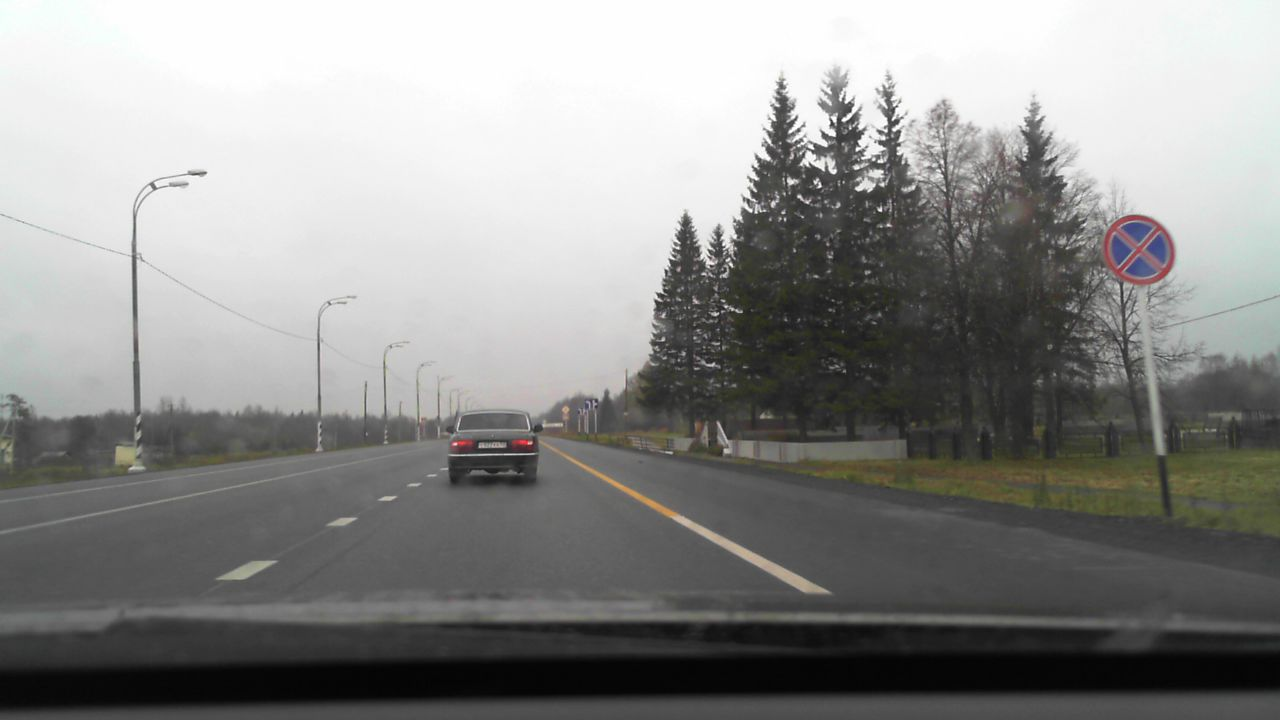No Parking: (1103, 215, 1175, 285)
